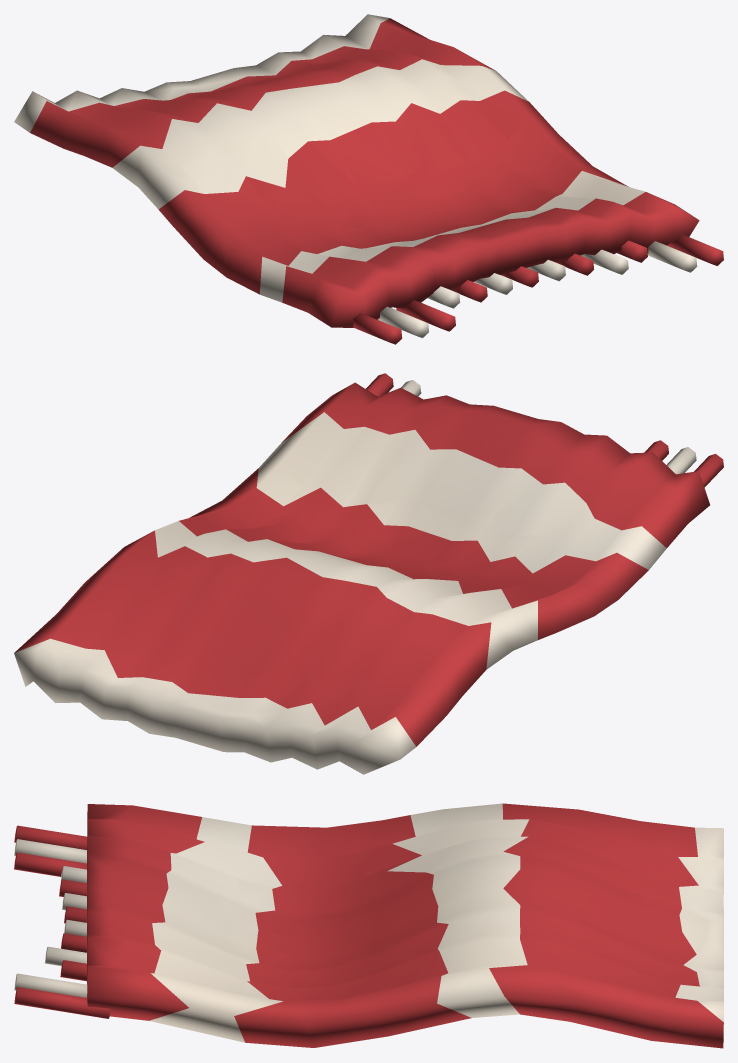
Rendered from frost_scarf_drape_lod1.glb.
3 views of the same model, one above another, from view 1: azimuth 30°, elevation 25°; view 2: azimuth 150°, elevation 25°; view 3: azimuth 270°, elevation 25° (orthographic). The views are drawn at different scales.
Visible parts, largest first — view 1: frost_scarf_drape.001; view 2: frost_scarf_drape.001; view 3: frost_scarf_drape.001.
Boxes of the visible parts, x1,y1,x2,y2 form: frost_scarf_drape.001: (14,14,723,344); frost_scarf_drape.001: (14,373,723,774); frost_scarf_drape.001: (14,803,723,1048).
Size of the model in its own units: 3.96 by 1.01 by 6.29.
